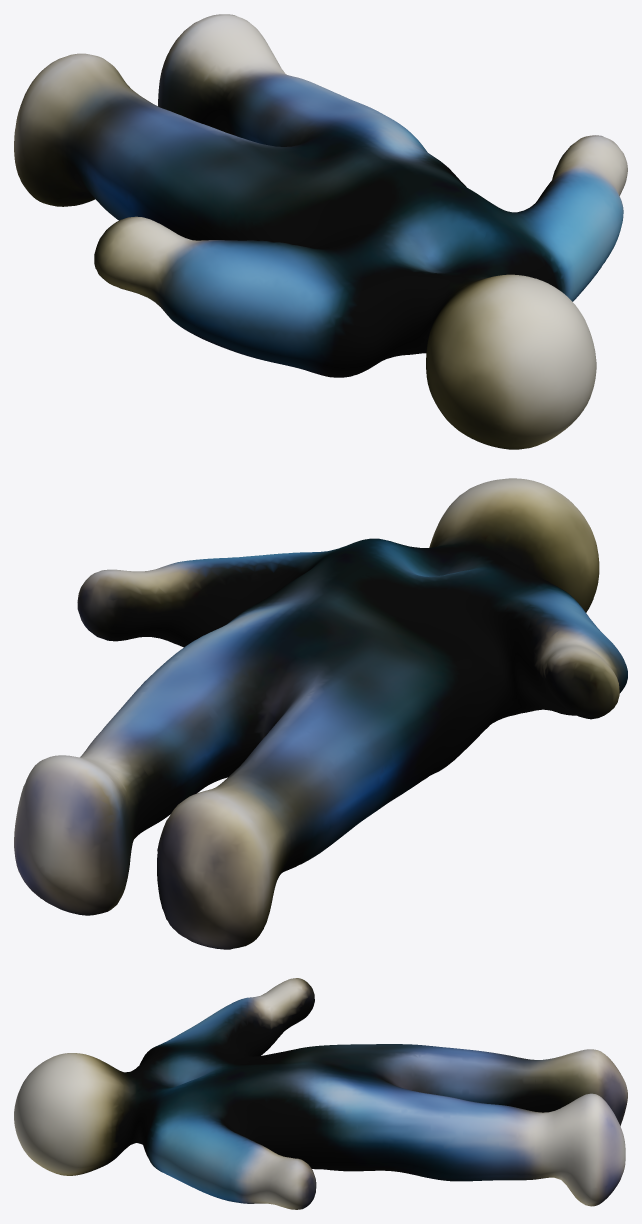
The model's file is grandfather.glb.
The picture shows the model from 3 angles, top to bottom: view 1: azimuth 30°, elevation 25°; view 2: azimuth 150°, elevation 25°; view 3: azimuth 270°, elevation 25°; orthographic projection. The views are drawn at different scales.
Size of the model in its own units: 0.7004 by 0.2201 by 0.9993.
